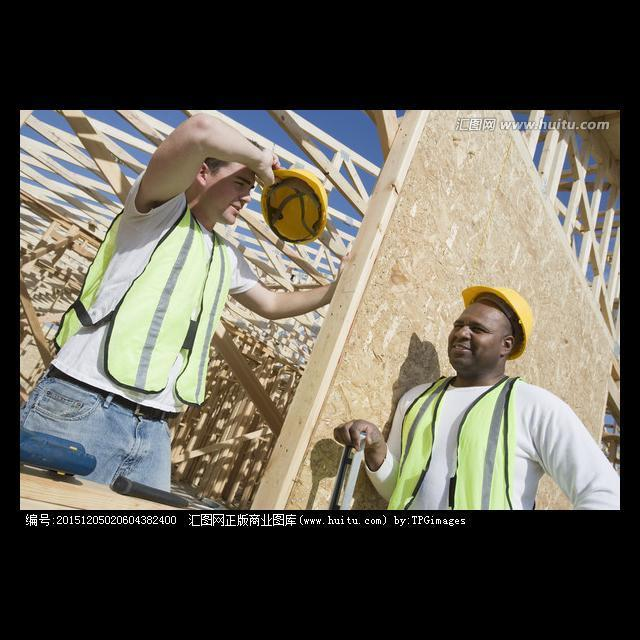Capacete: (462, 286, 533, 359), (261, 168, 327, 242)
Colete: (55, 207, 230, 404), (449, 376, 517, 509)
Pessoa: (20, 114, 335, 490), (334, 286, 619, 509)
